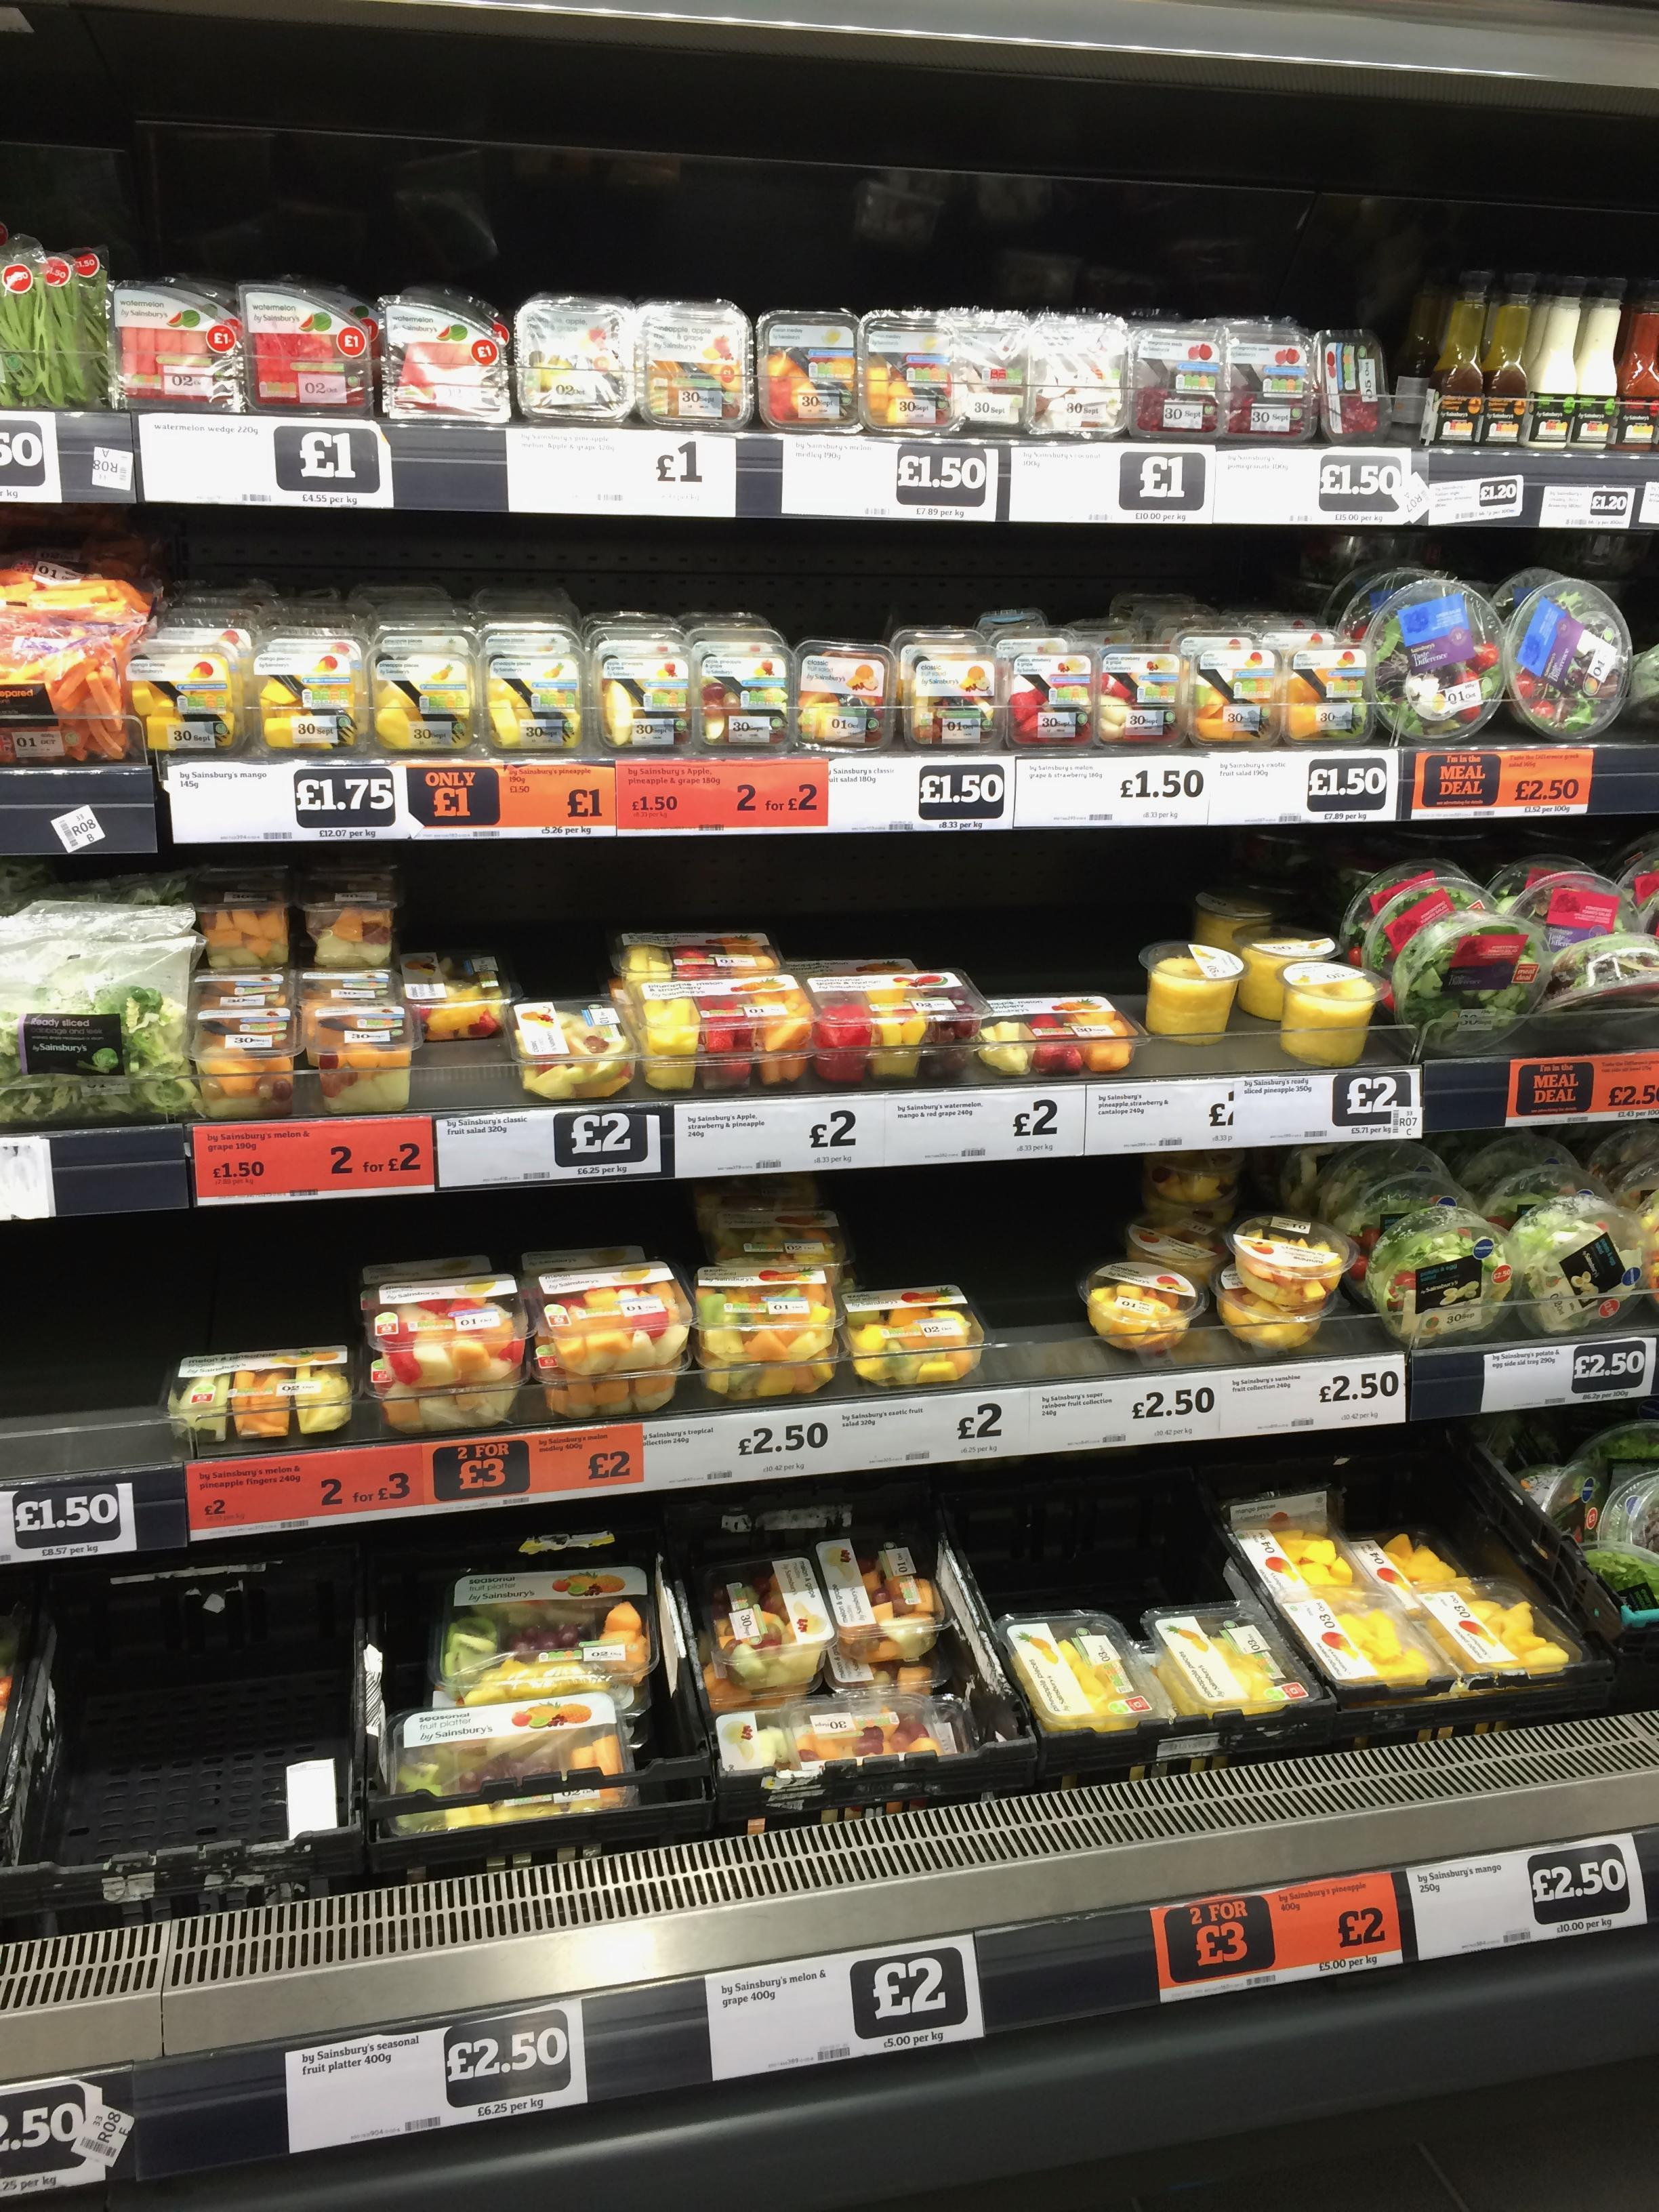fruit: (389, 1688, 631, 1832), (439, 1564, 652, 1705), (530, 1261, 692, 1418), (364, 1277, 525, 1432), (627, 974, 812, 1090), (716, 1693, 974, 1773), (1000, 1613, 1171, 1733), (807, 972, 988, 1083), (695, 1264, 836, 1397), (239, 280, 376, 415), (169, 1346, 350, 1446), (1145, 1606, 1309, 1714), (380, 287, 511, 421), (112, 277, 242, 411), (706, 1559, 833, 1693), (127, 622, 249, 754), (817, 1538, 945, 1663), (514, 294, 633, 421), (253, 625, 369, 752), (638, 301, 751, 427), (845, 1285, 983, 1386), (373, 625, 481, 752), (479, 620, 584, 751), (979, 995, 1140, 1076), (704, 1198, 850, 1287), (1026, 314, 1126, 437), (303, 1001, 413, 1113), (1229, 1216, 1352, 1313), (512, 1001, 633, 1101), (692, 631, 791, 749), (859, 312, 958, 430), (192, 1008, 298, 1118), (1084, 1261, 1202, 1355), (1223, 322, 1316, 442), (596, 634, 690, 751), (1129, 322, 1223, 439), (795, 641, 894, 751), (1180, 632, 1277, 744), (1213, 1268, 1328, 1353), (403, 953, 509, 1043), (195, 869, 289, 970), (610, 930, 781, 984), (1096, 644, 1185, 744), (303, 873, 394, 968)
